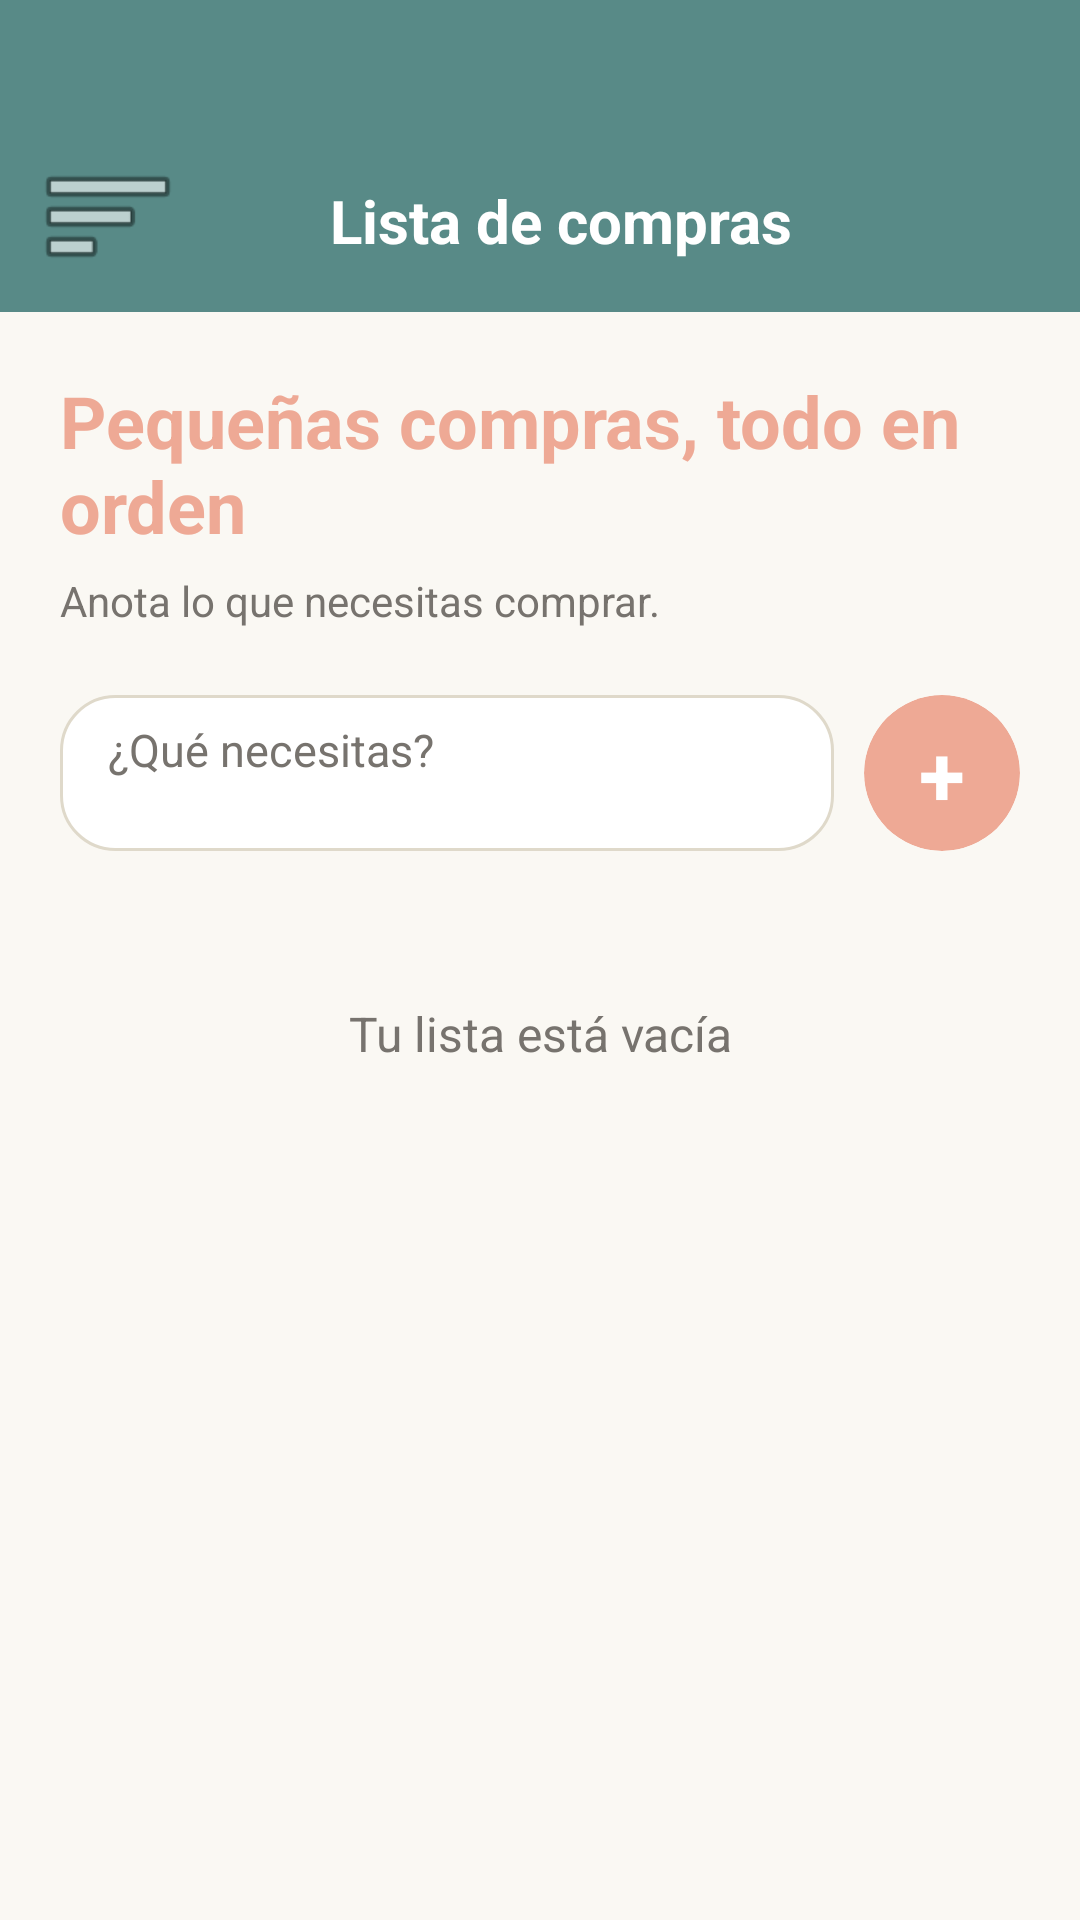

Point at icon controls on the screen. Image size 1080*1920, points as [x,y].
Abrir menú: [108,217]
